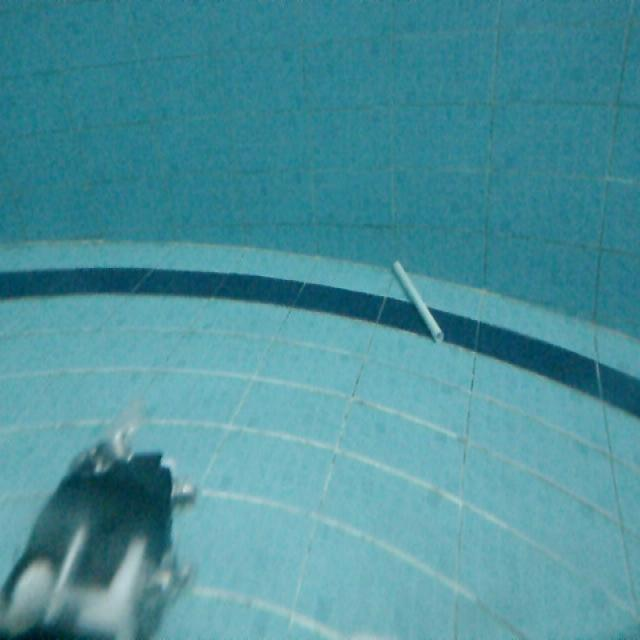Cube: (389, 255, 446, 344)
